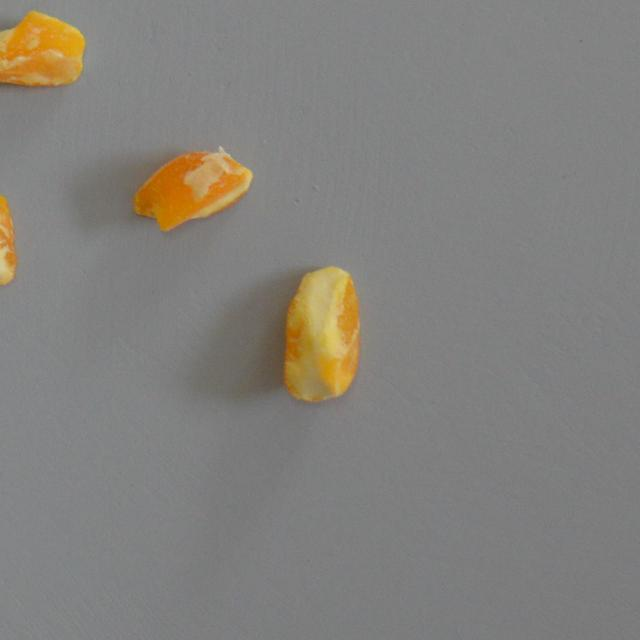pelicula: (278, 262, 360, 403), (132, 148, 253, 234), (0, 8, 86, 86), (0, 194, 16, 288)
